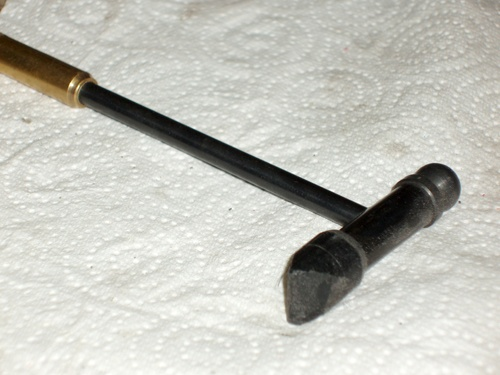hammer: (1, 29, 461, 326)
